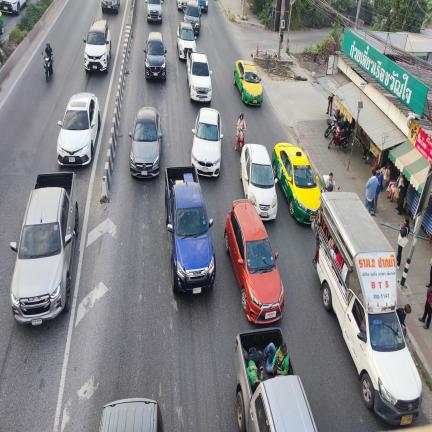car: (235, 327, 317, 432), (224, 199, 284, 324), (57, 93, 100, 165), (241, 144, 277, 220), (129, 107, 162, 177), (191, 108, 223, 176), (84, 20, 111, 74), (143, 32, 167, 79), (177, 21, 196, 59), (113, 430, 116, 432), (109, 429, 111, 432), (256, 374, 258, 376), (284, 372, 285, 373), (233, 389, 233, 390), (284, 368, 284, 369), (284, 340, 287, 340)
human: (263, 341, 289, 375), (397, 217, 410, 269), (370, 165, 383, 216), (418, 288, 432, 329), (365, 169, 378, 213), (247, 360, 264, 393), (396, 175, 409, 215), (396, 304, 412, 335), (387, 173, 403, 202), (235, 112, 246, 150), (43, 41, 53, 75), (325, 172, 337, 192), (426, 258, 432, 288), (326, 94, 334, 115)
motorbike: (328, 121, 351, 149), (324, 114, 338, 138), (42, 53, 52, 82), (238, 128, 245, 155), (246, 125, 247, 126), (52, 66, 52, 67)
pickup: (317, 192, 422, 425), (10, 172, 79, 325), (235, 328, 317, 432), (165, 166, 216, 294), (187, 53, 212, 103), (145, 0, 163, 23), (258, 372, 259, 374)
taxi: (272, 143, 321, 223), (234, 60, 263, 105)
